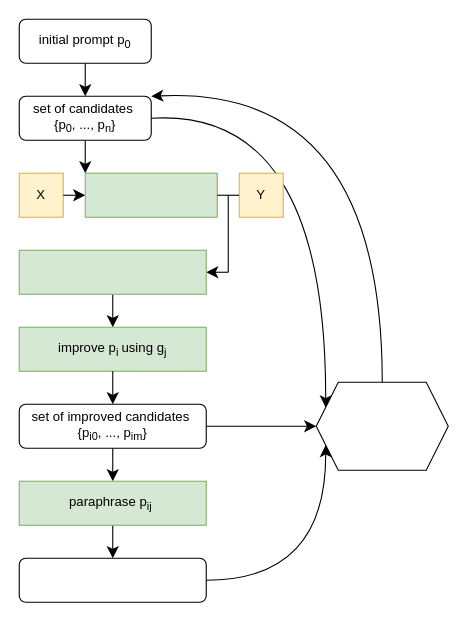
The diagram is 468 pixels wide and 622 high, and some of its shapes have lost their labels. The shapes that lost their labels are listed below. From the top down, each one's centre as x and y in pixels, then its label:
At (x=150, y=194): "prompt p i with input x".
At (x=112, y=271): "g 0 , ..., g m : whats wrong with p i when y was expected?".
At (x=381, y=425): "Bandit Selection: n most promising candidates".
At (x=112, y=579): "set of paraphrased candidates {p ij0 , ..., p ijk }".
